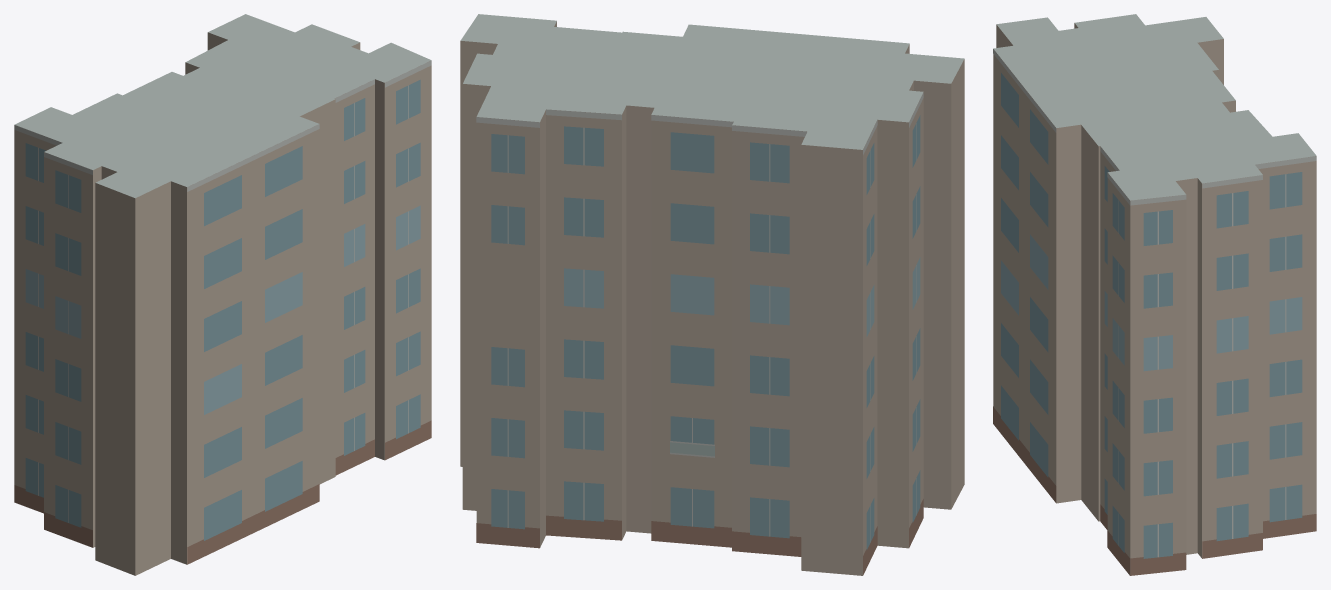
The model's file is survey-upis-33021106.glb.
The picture shows the model from 3 angles, left to right: view 1: azimuth 30°, elevation 25°; view 2: azimuth 150°, elevation 25°; view 3: azimuth 270°, elevation 25°; orthographic projection. The views are drawn at different scales.
Parts seen in each view (by area): view 1: survey-upis-33021106.tmp; view 2: survey-upis-33021106.tmp; view 3: survey-upis-33021106.tmp.
Part boxes in pixels (x1,y1,x2,y2): survey-upis-33021106.tmp: (14,14,431,575); survey-upis-33021106.tmp: (460,14,964,575); survey-upis-33021106.tmp: (993,14,1316,575).
Size of the model in its own units: 19.52 by 18.3 by 14.31.
